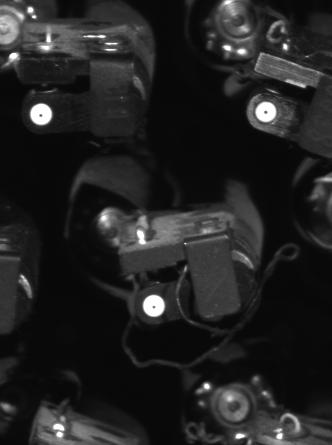fiber: (26, 100, 61, 130), (139, 290, 171, 321), (251, 99, 284, 126)
